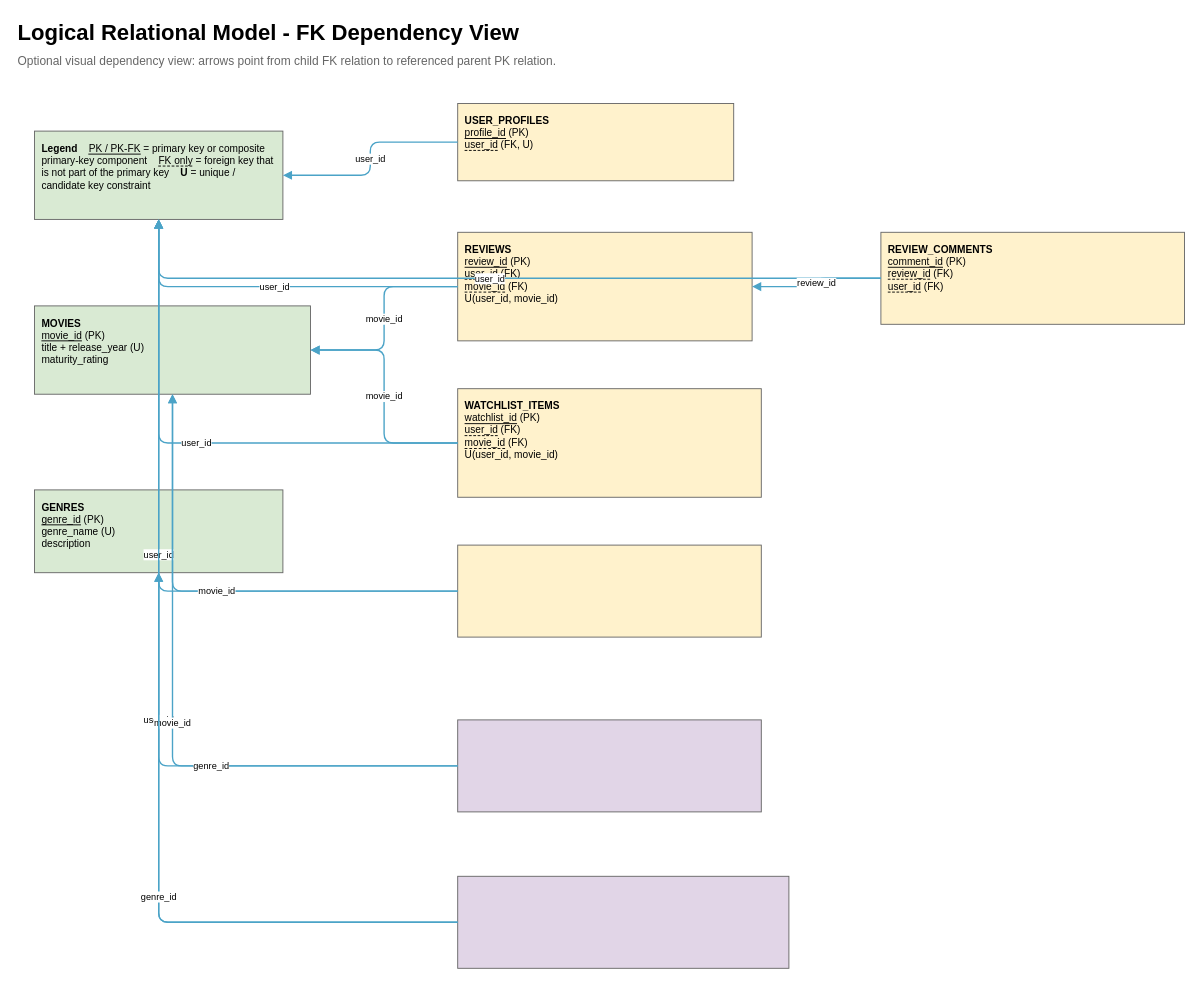
This 1201x984 diagram has some shape labels left out. The centre of each missing label's shape, as x and y in pixels:
"MOVIE_GENRES movie_id (PK/FK) genre_id (PK/FK) Composite PK" goes at [609,765].
"USER_GENRE_PREFERENCES user_id (PK/FK) genre_id (PK/FK) preference_score" goes at [623,921].
"VIEWING_HISTORY viewing_id (PK) user_id (FK) movie_id (FK)" goes at [609,590].
